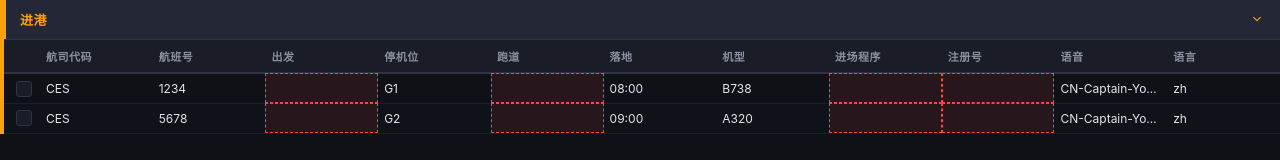
Test case: FlightTable — Voice dropdown is constrained to the flight Language › lists only voices whose catalog language matches the flight Language
Press the mouse on the cell "CN-Captain-Young": coordinates (1111, 88) [1054, 73, 1167, 103]
Click the cell "CN-Captain-Young": coordinates (1111, 88) [1054, 73, 1167, 103]
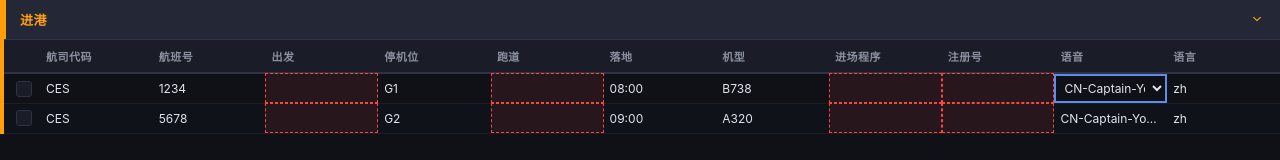
Now the dropdown with class "cell-widget" is shown, box [1054, 74, 1167, 102]
